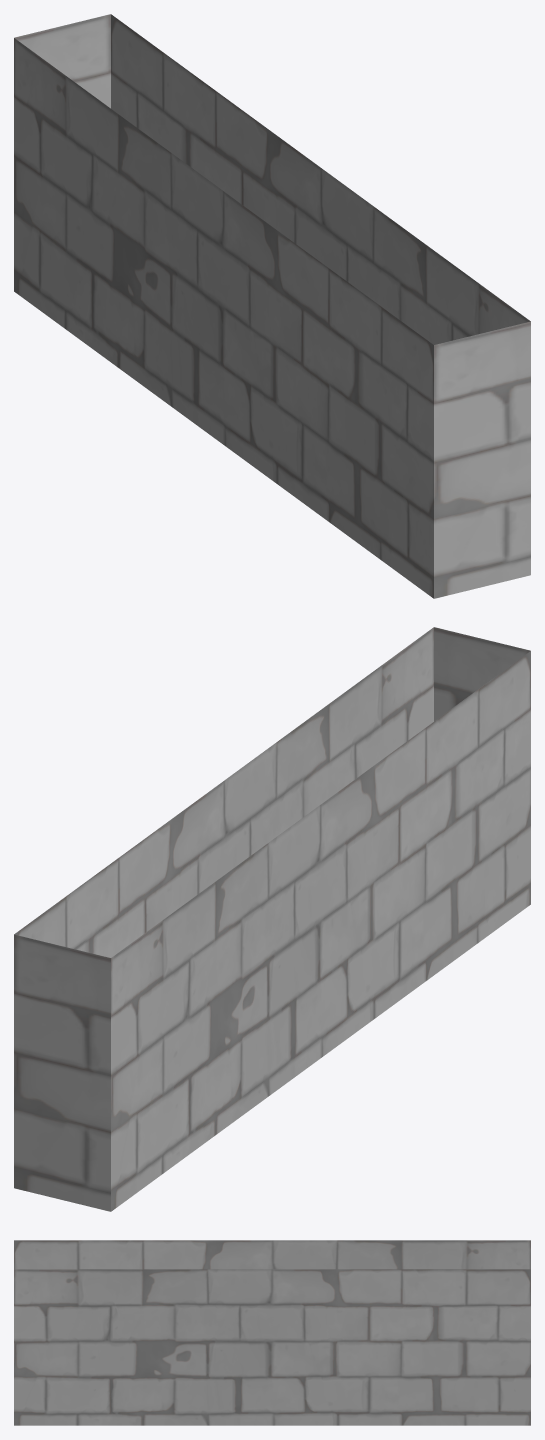
Rendered from Wall1X3_Prototype.fbx.
The picture shows the model from 3 angles, top to bottom: view 1: azimuth 30°, elevation 25°; view 2: azimuth 150°, elevation 25°; view 3: azimuth 270°, elevation 25°; orthographic projection. The views are drawn at different scales.
Visible parts, largest first — view 1: Mat_Tile_BrickWall01 4; view 2: Mat_Tile_BrickWall01 4; view 3: Mat_Tile_BrickWall01 4.
Part boxes in pixels (x1=…): Mat_Tile_BrickWall01 4: x1=14, y1=14, x2=530, y2=598; Mat_Tile_BrickWall01 4: x1=14, y1=627, x2=530, y2=1211; Mat_Tile_BrickWall01 4: x1=14, y1=1240, x2=530, y2=1425.
Size of the model in its own units: 0.4 by 1 by 3.
Materials: 1 (1 with a texture image).
